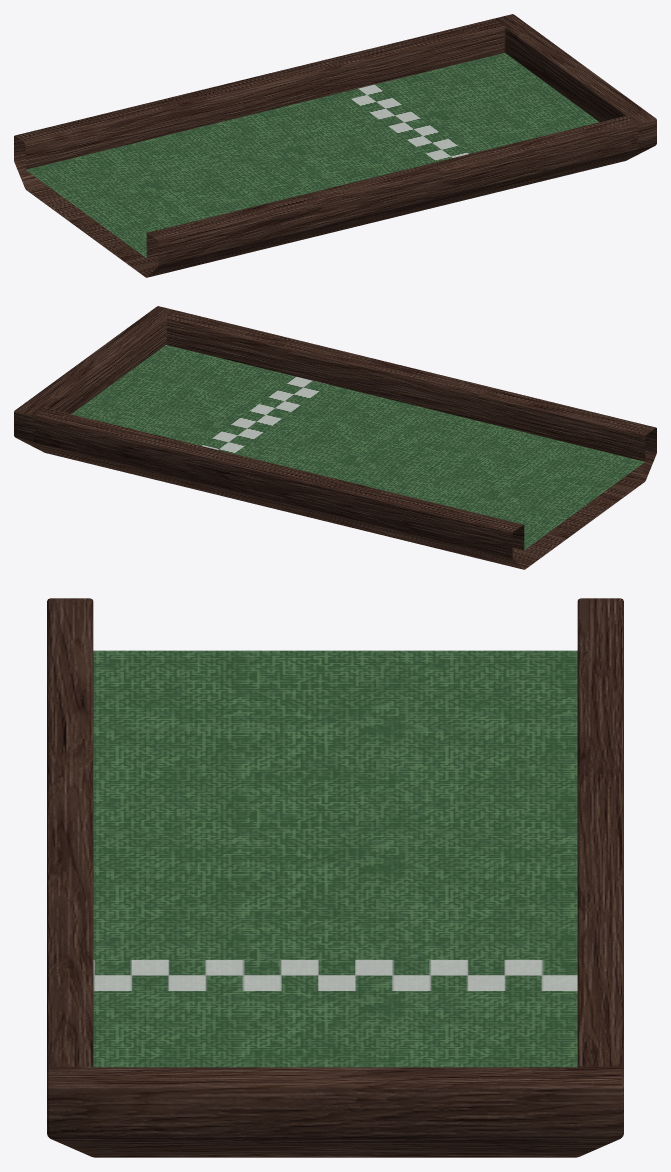
File: Course_Start.glb
3 views of the same model, one above another, from view 1: azimuth 30°, elevation 25°; view 2: azimuth 150°, elevation 25°; view 3: azimuth 270°, elevation 25° (orthographic). The views are drawn at different scales.
Parts seen in each view (by area): view 1: CourseStart.Walls, CourseStart.Green; view 2: CourseStart.Walls, CourseStart.Green; view 3: CourseStart.Green, CourseStart.Walls.
Part boxes in pixels (bbox=[...]): CourseStart.Walls: bbox=[14, 14, 656, 277]; CourseStart.Green: bbox=[26, 53, 599, 257]; CourseStart.Walls: bbox=[14, 306, 656, 569]; CourseStart.Green: bbox=[71, 345, 644, 549]; CourseStart.Green: bbox=[93, 650, 577, 1067]; CourseStart.Walls: bbox=[47, 598, 623, 1157].
Size of the model in its own units: 2 by 0.1759 by 1.
Materials: 1 (1 with a texture image).
